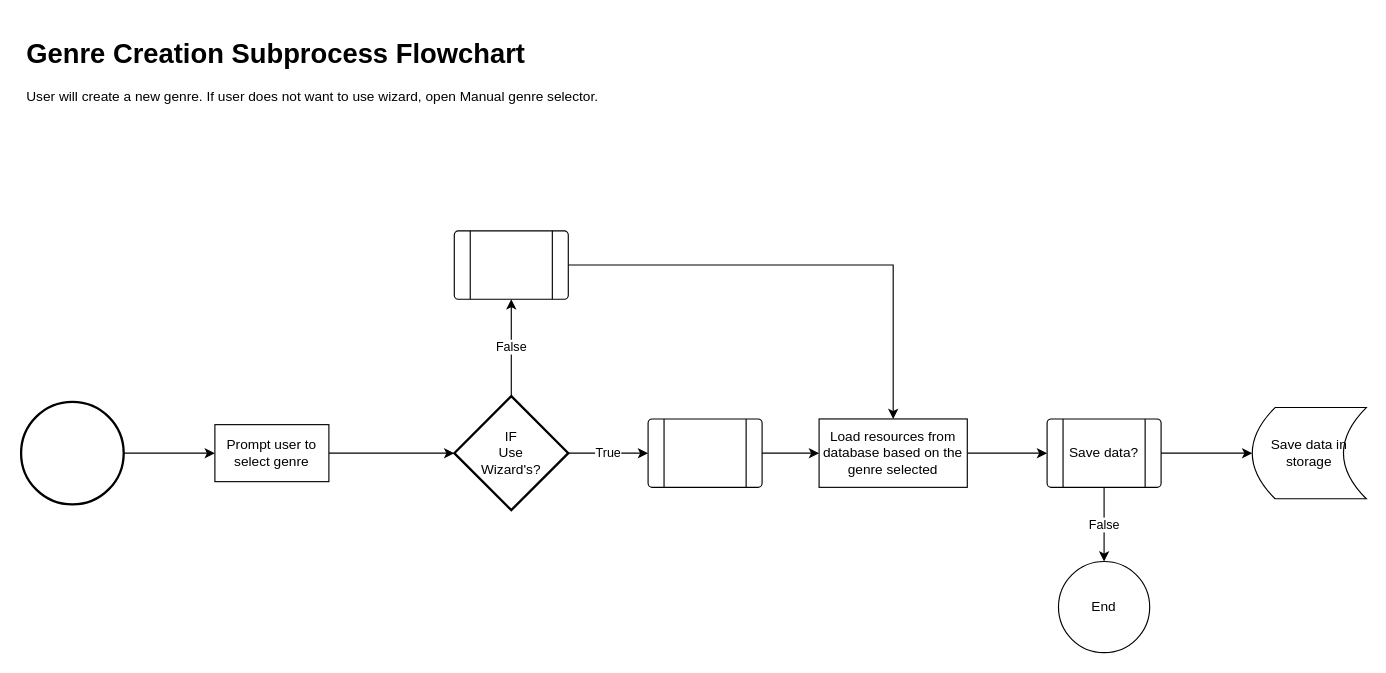
The diagram is 1386 pixels wide and 673 high, and some of its shapes have lost their labels. Each missing label, with the centre of its shape:
Manual genre selector: pixel 510 264
START Genre selection Subprocess: pixel 71 452
Wizard genre selector: pixel 704 452
